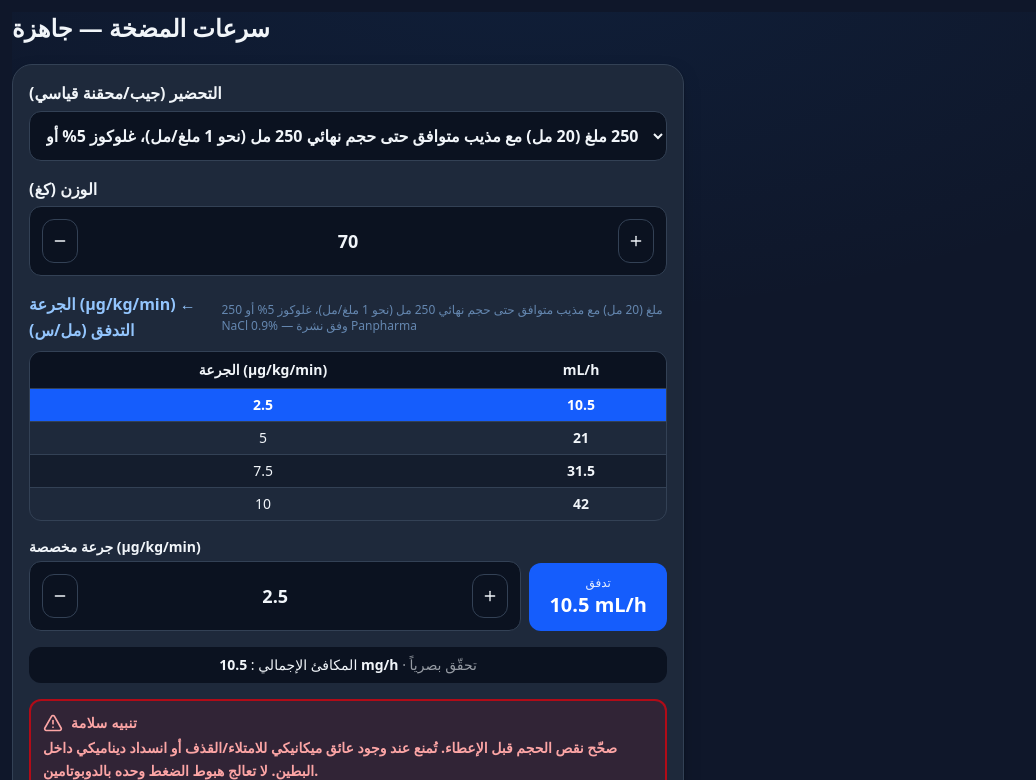
PerfusionsPage › affiche et calcule la même dose effective, bornée au preset
Expected: the text "10.5 mL/h" is shown, left=549, top=591, right=647, bottom=619
Replace the text in the number field named "dose" with "1000" at {"x": 275, "y": 596}, box left=82, top=582, right=468, bottom=610
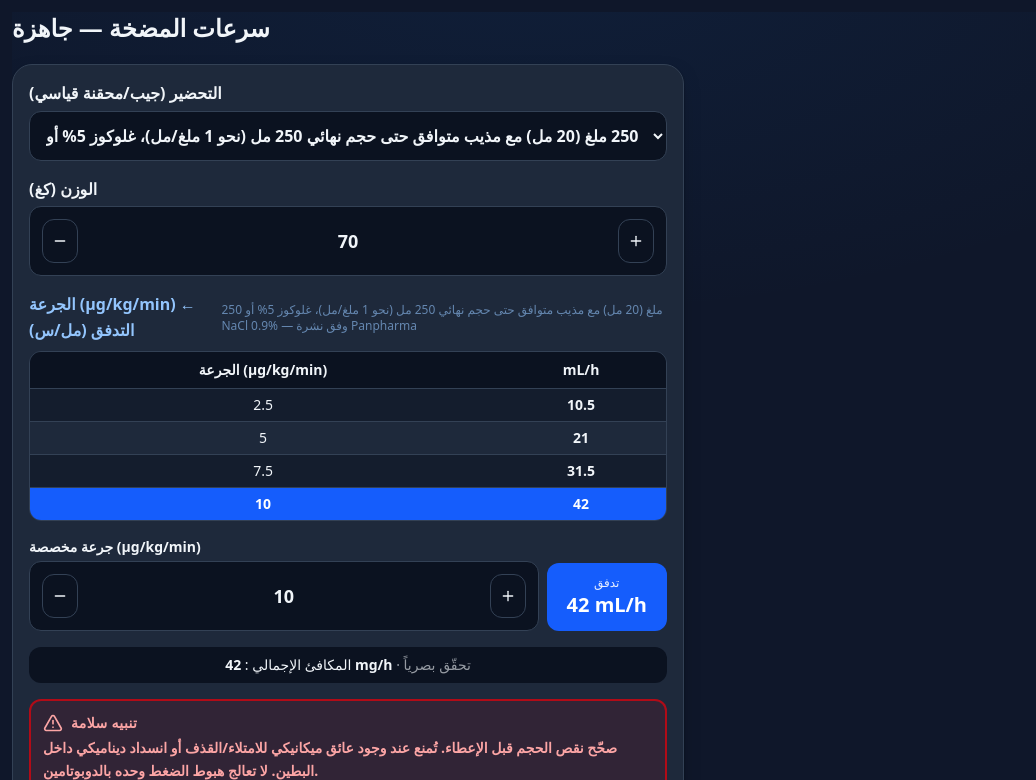
Now the number field named "dose" holds "10", box left=82, top=582, right=486, bottom=610
Now the text "42 mL/h" is shown, box left=567, top=591, right=647, bottom=619
